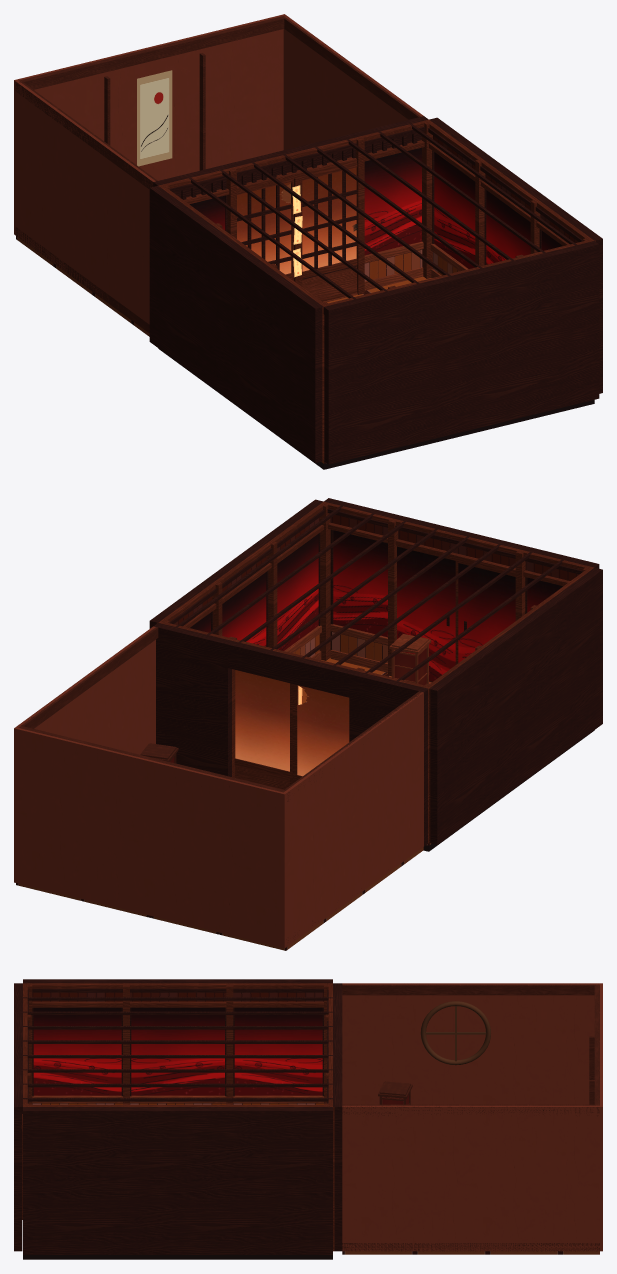
The model's file is haunted-mansion-door.lod1.glb.
3 renders of one model, top to bottom at view 1: azimuth 30°, elevation 25°; view 2: azimuth 150°, elevation 25°; view 3: azimuth 270°, elevation 25°, orthographic. The views are drawn at different scales.
Bounding box in the file's own units: 4.1 × 2.22 × 7.77.
37 materials, 31 textured.
